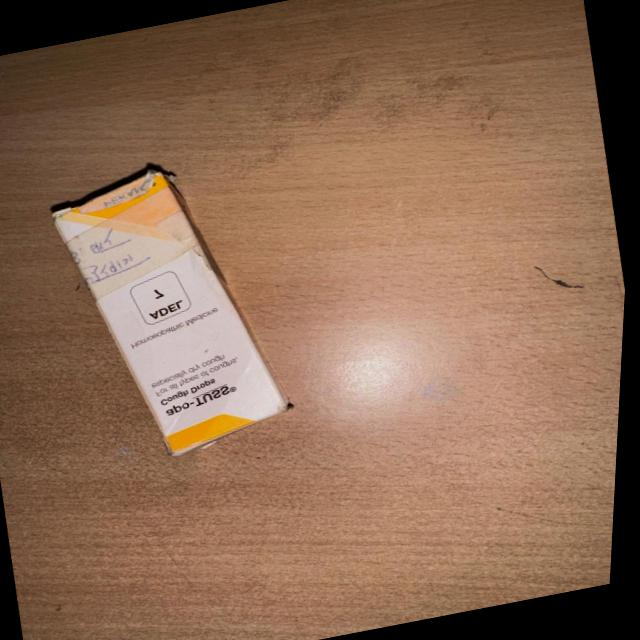medicine: (27, 154, 313, 476)
